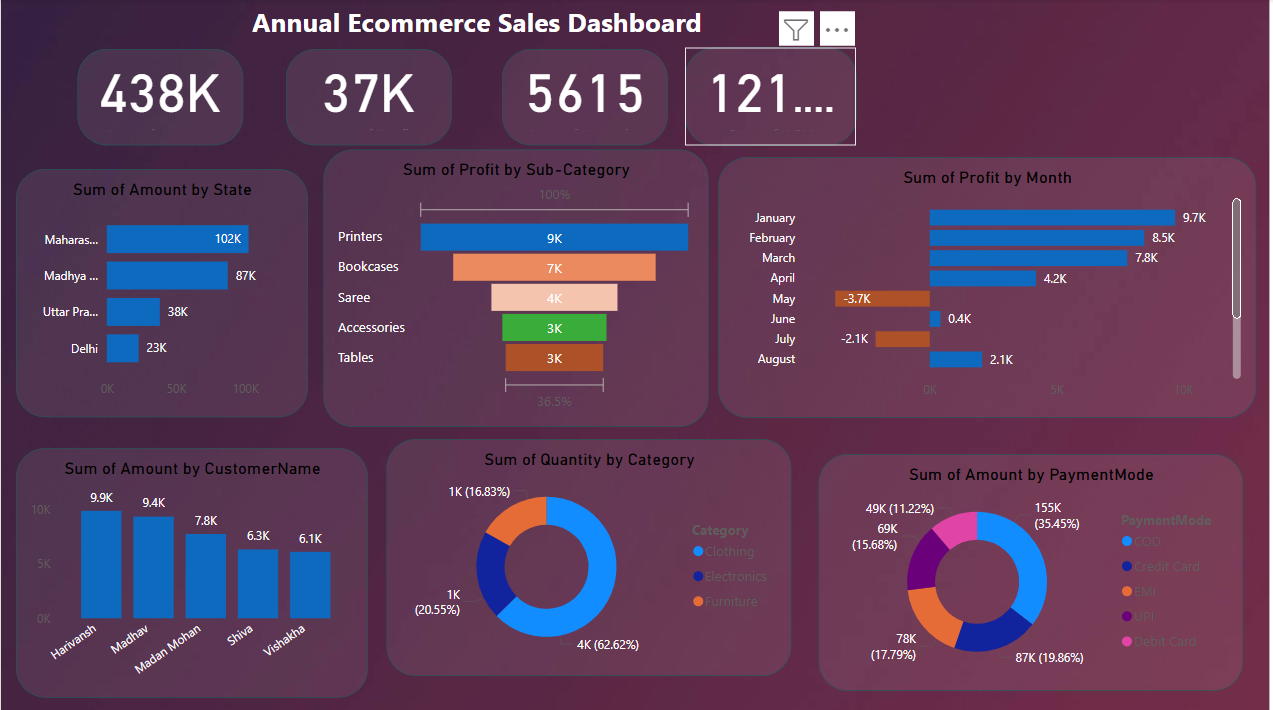

The page's visual inventory and layout, read from the dashboard file:
{"tool":"powerbi","page":{"name":"Page 1","canvas":[1280,720],"ordinal":0},"visuals":[{"type":"textbox","box":[248.5,0,513.6,75.5],"z":0},{"type":"barChart","fields":{"Category":["Orders.Order Date.Variation.Date Hierarchy.Month"],"Y":["Details.Profit"]},"box":[723.5,160.2,543.1,263.2],"z":1000},{"type":"funnel","fields":{"Category":["Details.Sub-Category","Details.Order ID"],"Y":["Details.Profit"]},"box":[325.8,152.8,388.4,279.8],"z":2000},{"type":"donutChart","fields":{"Category":["Details.Category"],"Y":["Details.Quantity"]},"box":[388.4,445.5,408.7,239.3],"z":3000},{"type":"donutChart","fields":{"Category":["Details.PaymentMode"],"Y":["Details.Amount"]},"box":[824.7,460.2,428.9,239.3],"z":4000},{"type":"card","fields":{"Values":["Details.Amount"]},"box":[77.3,51.5,167.5,97.6],"z":5000},{"type":"card","fields":{"Values":["Details.Profit"]},"box":[287.2,51.5,167.5,97.6],"z":6000},{"type":"card","fields":{"Values":["Details.Quantity"]},"box":[506.2,51.5,167.5,97.6],"z":7000},{"type":"card","fields":{"Values":["Details.AOV"]},"box":[690.3,49.7,173,99.4],"z":8000},{"type":"clusteredBarChart","fields":{"Category":["Orders.State"],"Y":["Details.Amount"]},"box":[14.7,173,294.5,250.4],"z":9000},{"type":"columnChart","fields":{"Category":["Orders.CustomerName"],"Y":["Details.Amount"]},"box":[14.7,454.7,355.3,252.2],"z":10000}]}

Visuals, with their boxes in screenshot pixels (x1, y1, x2, y2), scaled from the page's 1280x720 canvas onto the 1273x710 screenshot:
textbox: [left=247, top=0, right=758, bottom=74]
barChart - Orders.Order Date.Variation.Date Hierarchy.Month x Details.Profit: [left=720, top=158, right=1260, bottom=418]
funnel - Details.Sub-Category x Details.Order ID: [left=324, top=151, right=710, bottom=427]
donutChart - Details.Category x Details.Quantity: [left=386, top=439, right=793, bottom=675]
donutChart - Details.PaymentMode x Details.Amount: [left=820, top=454, right=1247, bottom=690]
card - Details.Amount: [left=77, top=51, right=243, bottom=147]
card - Details.Profit: [left=286, top=51, right=452, bottom=147]
card - Details.Quantity: [left=503, top=51, right=670, bottom=147]
card - Details.AOV: [left=687, top=49, right=859, bottom=147]
clusteredBarChart - Orders.State x Details.Amount: [left=15, top=171, right=308, bottom=418]
columnChart - Orders.CustomerName x Details.Amount: [left=15, top=448, right=368, bottom=697]
